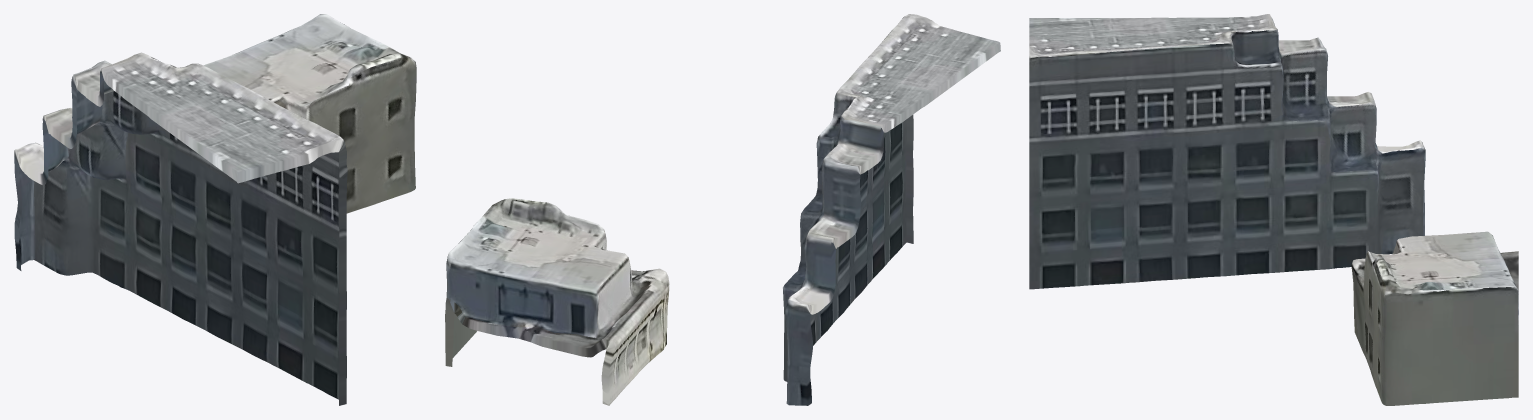
File: z20-167761-405239-h1-yup-uvflip-v3-world.glb
The picture shows the model from 3 angles, left to right: view 1: azimuth 30°, elevation 25°; view 2: azimuth 150°, elevation 25°; view 3: azimuth 270°, elevation 25°; orthographic projection. The views are drawn at different scales.
Size of the model in its own units: 24.04 by 15.96 by 30.32.
1 material, 1 textured.
